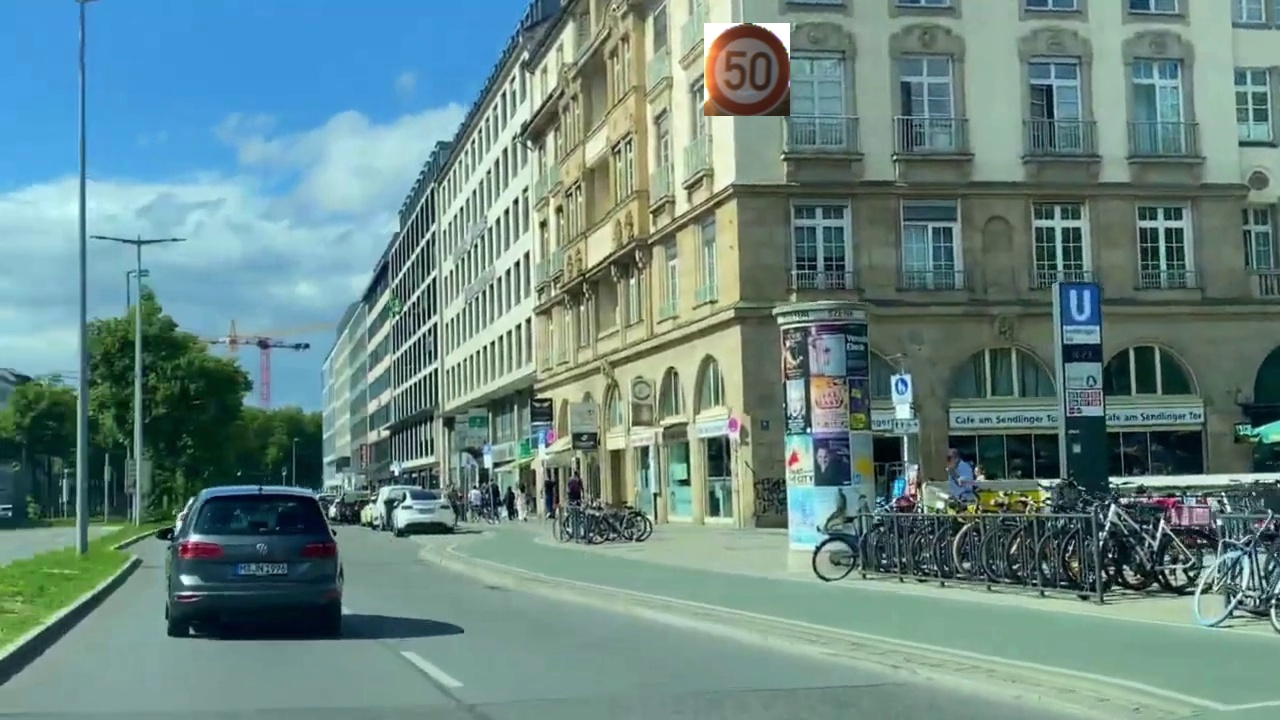Speed 50: (704, 23, 790, 116)
